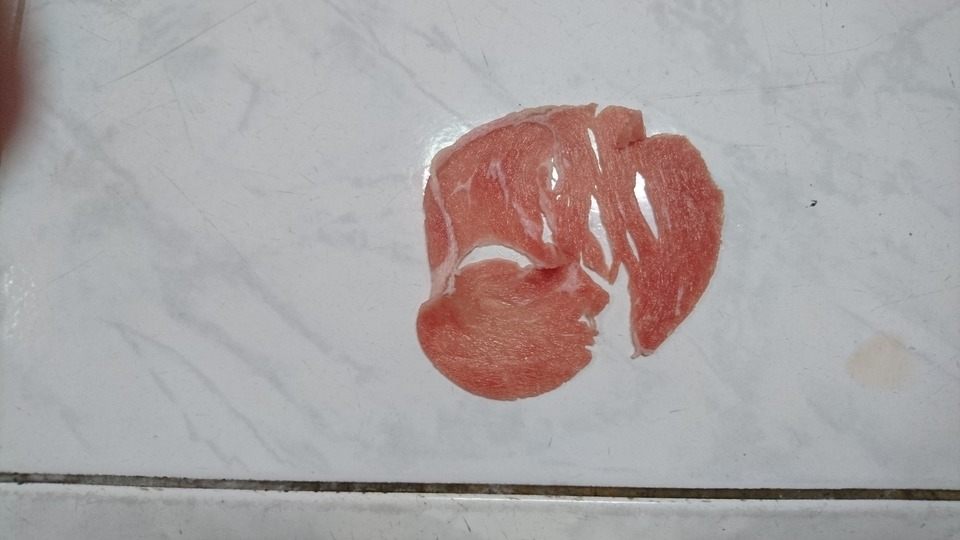restructured meat: (417, 104, 727, 408)
